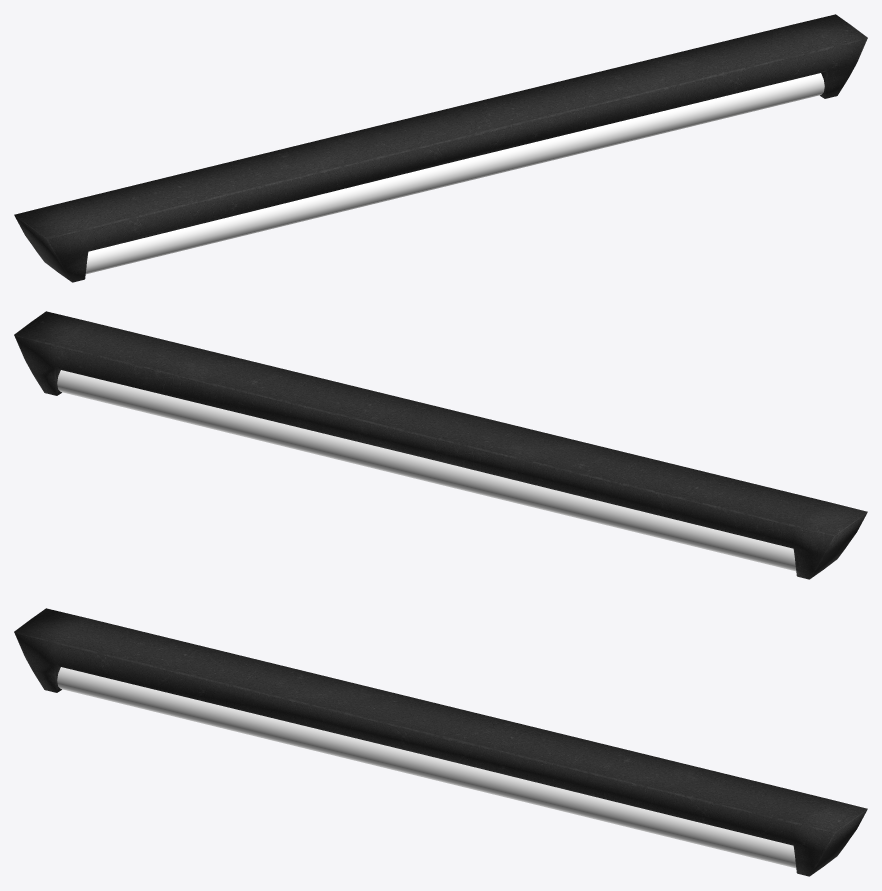
The model's file is Lights_FIX.fbx.
3 renders of one model, top to bottom at view 1: azimuth 30°, elevation 25°; view 2: azimuth 150°, elevation 25°; view 3: azimuth 330°, elevation 25°, orthographic.
Visible parts, largest first — view 1: R_Light_1, R_Light_2; view 2: R_Light_1, R_Light_2; view 3: R_Light_1, R_Light_2.
Part boxes in pixels (<box>): R_Light_1: <box>14,14,867,282</box>; R_Light_2: <box>85,73,824,274</box>; R_Light_1: <box>14,311,867,579</box>; R_Light_2: <box>57,370,796,571</box>; R_Light_1: <box>14,608,867,876</box>; R_Light_2: <box>57,667,796,868</box>.
Bounding box in the file's own units: 847 × 52.77 × 58.77.
1 material, 1 textured.
